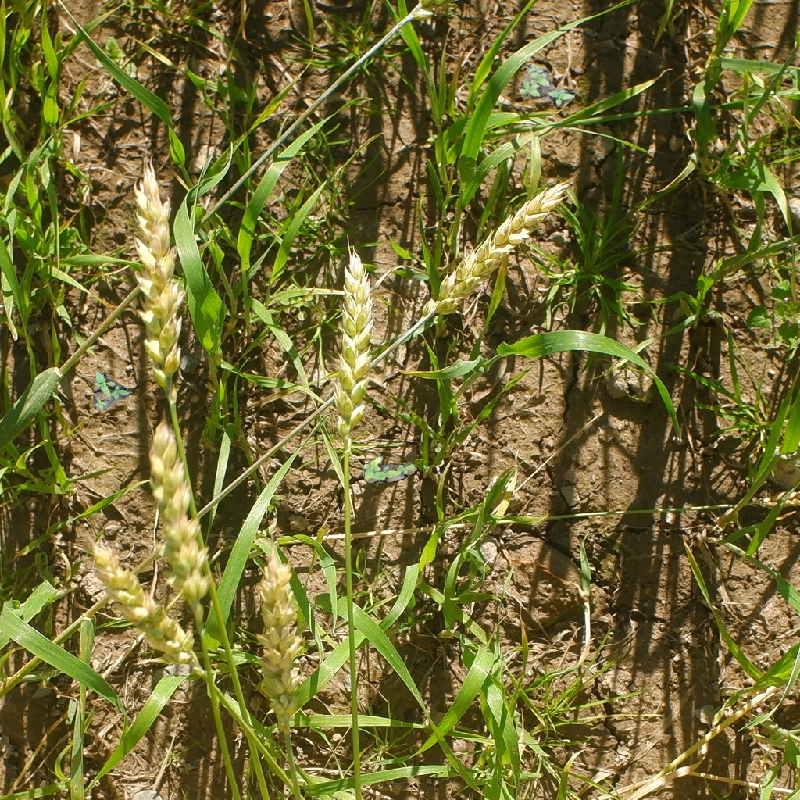spikelet: (436, 177, 571, 309), (88, 543, 197, 691), (130, 167, 186, 394), (144, 425, 209, 598), (256, 550, 304, 733), (338, 250, 366, 438)
weed: (357, 440, 418, 501), (515, 62, 581, 115), (89, 371, 135, 416)
